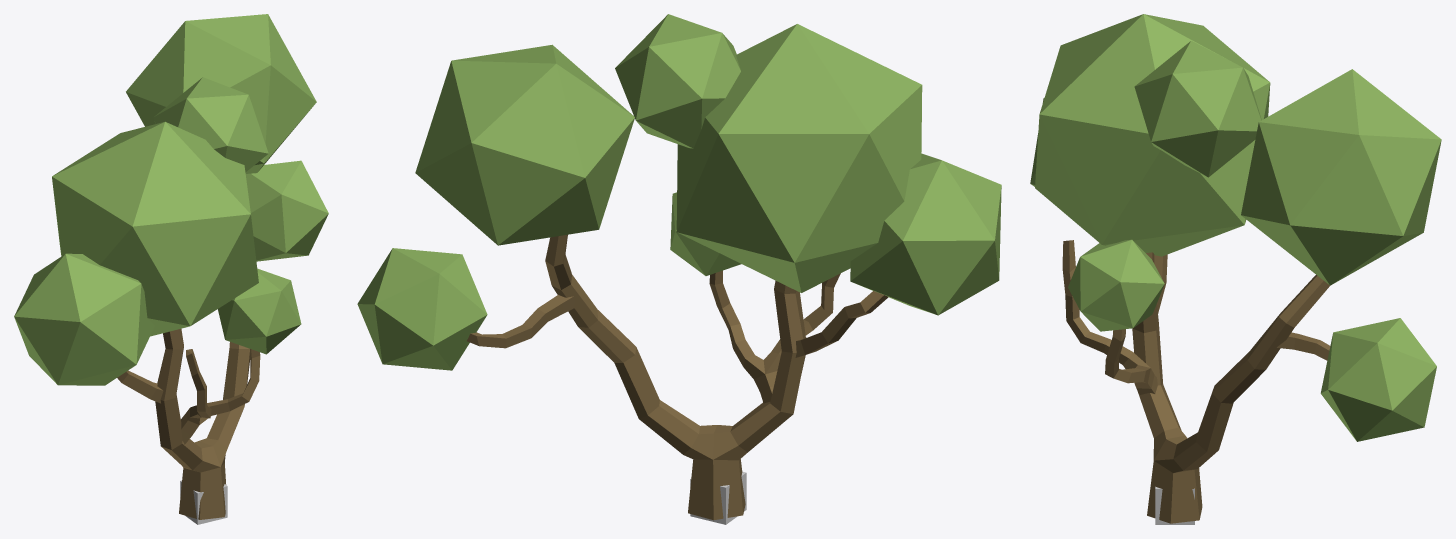
The picture shows the model from 3 angles, left to right: view 1: azimuth 30°, elevation 25°; view 2: azimuth 150°, elevation 25°; view 3: azimuth 270°, elevation 25°; orthographic projection. The views are drawn at different scales.
Visible parts, largest first — view 1: Default, Cube; view 2: Default; view 3: Default.
Part boxes in pixels (bbox=[...]): Default: bbox=[14, 14, 328, 519]; Cube: bbox=[180, 480, 227, 524]; Default: bbox=[357, 14, 1001, 520]; Default: bbox=[1030, 14, 1441, 523].
Bounding box in the file's own units: 2798 × 2680 × 2080.
